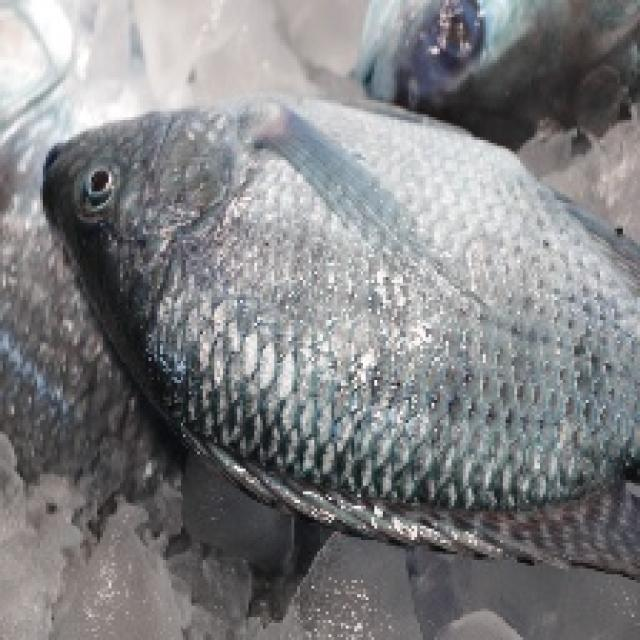Fresh: (26, 95, 640, 531)
